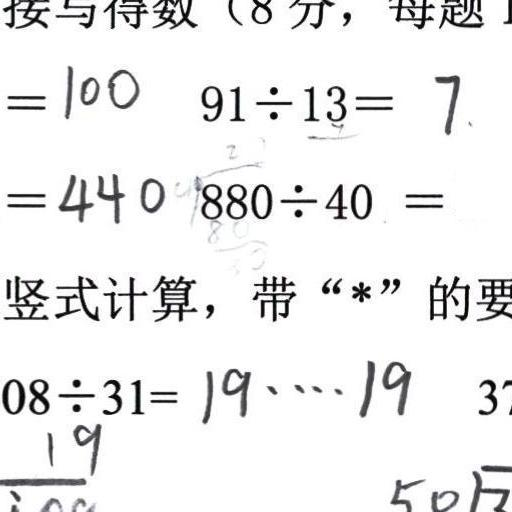ans: (196, 354, 413, 424), (55, 165, 164, 224), (57, 58, 139, 118), (428, 66, 464, 134)
